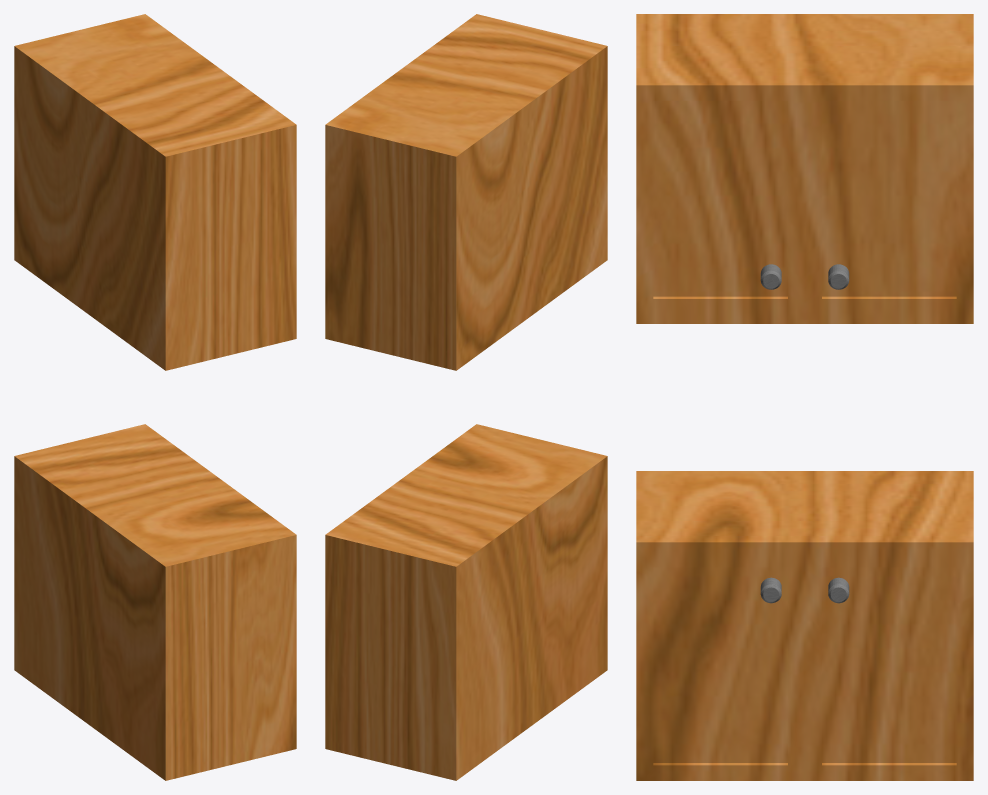
The model's file is CupboardFull.fbx.
3 renders of one model, left to right at view 1: azimuth 30°, elevation 25°; view 2: azimuth 150°, elevation 25°; view 3: azimuth 270°, elevation 25°, orthographic. The views are drawn at different scales.
Parts seen in each view (by area): view 1: CupboardsFull; view 2: CupboardsFull; view 3: CupboardsFull.
Boxes of the visible parts, x1,y1,x2,y2 form: CupboardsFull: (14, 14, 296, 780); CupboardsFull: (325, 14, 607, 780); CupboardsFull: (636, 14, 973, 780).
Size of the model in its own units: 214 by 910 by 400.
